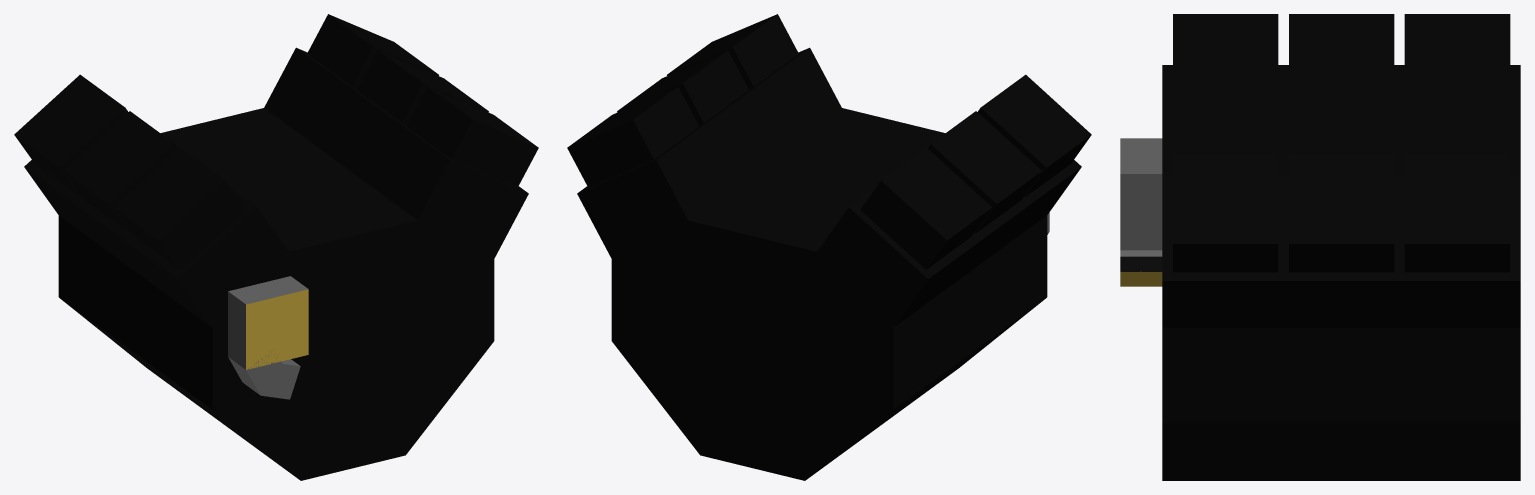
Rendered from v6performanteturbo.obj.
The picture shows the model from 3 angles, left to right: view 1: azimuth 30°, elevation 25°; view 2: azimuth 150°, elevation 25°; view 3: azimuth 270°, elevation 25°; orthographic projection. The views are drawn at different scales.
Parts seen in each view (by area): view 1: cube, turbo; view 2: cube; view 3: cube, turbo.
Part boxes in pixels (x1=…): cube: x1=14, y1=14, x2=538, y2=480; turbo: x1=228, y1=276, x2=308, y2=399; cube: x1=567, y1=14, x2=1091, y2=480; cube: x1=1162, y1=14, x2=1520, y2=480; turbo: x1=1120, y1=138, x2=1162, y2=286.
Bounding box in the file's own units: 0.8872 × 0.702 × 0.6946.
